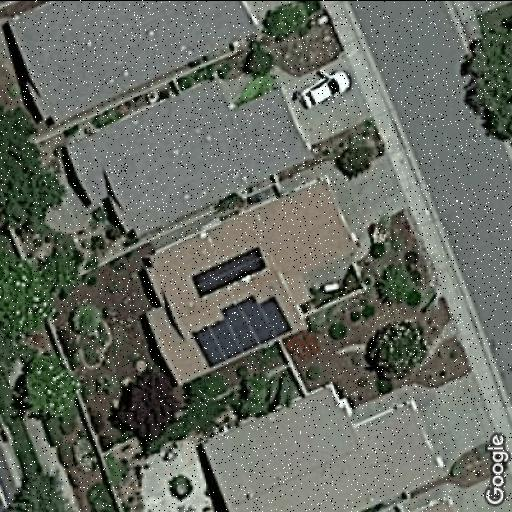solar-panel: (188, 293, 292, 371), (188, 243, 270, 299)
